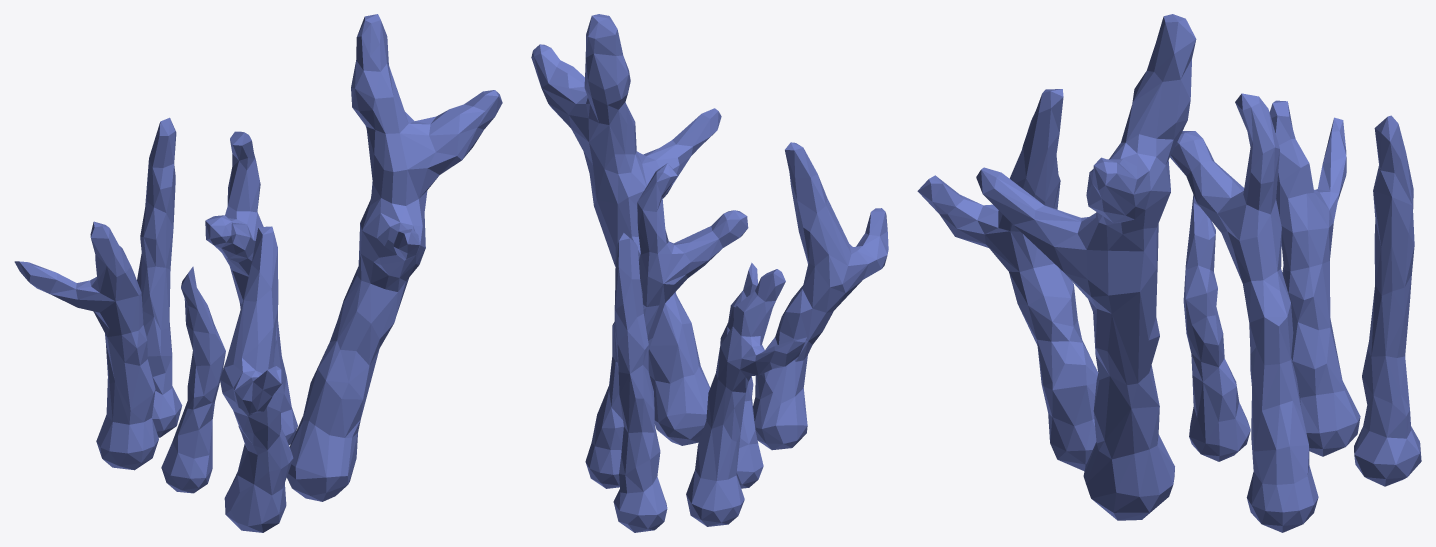
Rendered from Coral3.glb.
3 views of the same model, side by side, from view 1: azimuth 30°, elevation 25°; view 2: azimuth 150°, elevation 25°; view 3: azimuth 270°, elevation 25° (orthographic). The views are drawn at different scales.
Visible parts, largest first — view 1: Coral.003; view 2: Coral.003; view 3: Coral.003.
Boxes of the visible parts, x1=… form: Coral.003: x1=14, y1=14, x2=502, y2=532; Coral.003: x1=531, y1=14, x2=888, y2=532; Coral.003: x1=917, y1=14, x2=1421, y2=532.
Bounding box in the file's own units: 35.65 × 39.69 × 33.18.
